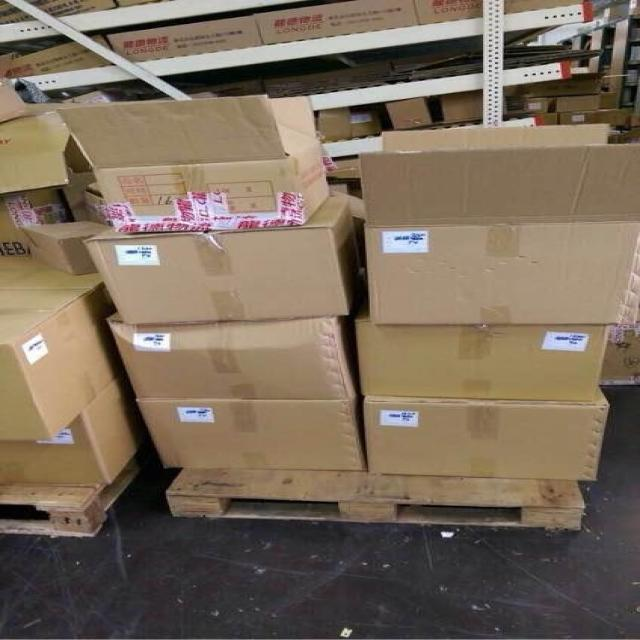box: (359, 124, 640, 325), (56, 96, 329, 231), (86, 195, 362, 326), (364, 391, 608, 481), (107, 313, 356, 401), (358, 321, 608, 401), (0, 288, 113, 440), (139, 399, 364, 470), (0, 380, 139, 484), (107, 15, 264, 61), (255, 0, 418, 44), (17, 220, 116, 276), (0, 189, 75, 257), (0, 42, 110, 79), (0, 256, 101, 289), (521, 67, 604, 97), (599, 325, 640, 381), (415, 0, 483, 23), (29, 0, 116, 17), (439, 90, 483, 122), (385, 98, 430, 129), (555, 92, 617, 113), (318, 108, 352, 139), (560, 109, 625, 125), (349, 111, 380, 137), (2, 1, 33, 23), (528, 98, 548, 114), (542, 113, 557, 125)
